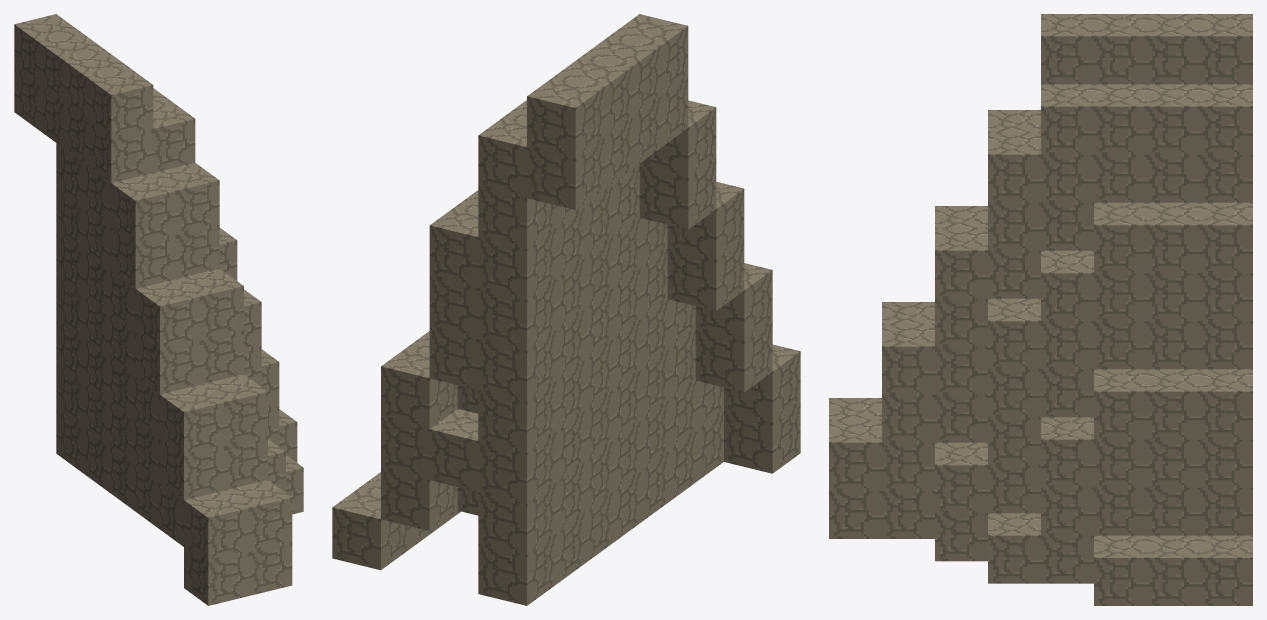
Rendered from map1.57.vox.obj.
3 views of the same model, side by side, from view 1: azimuth 30°, elevation 25°; view 2: azimuth 150°, elevation 25°; view 3: azimuth 270°, elevation 25° (orthographic). The views are drawn at different scales.
Bounding box in the file's own units: 10 × 20 × 16.
Materials: 1 (1 with a texture image).
